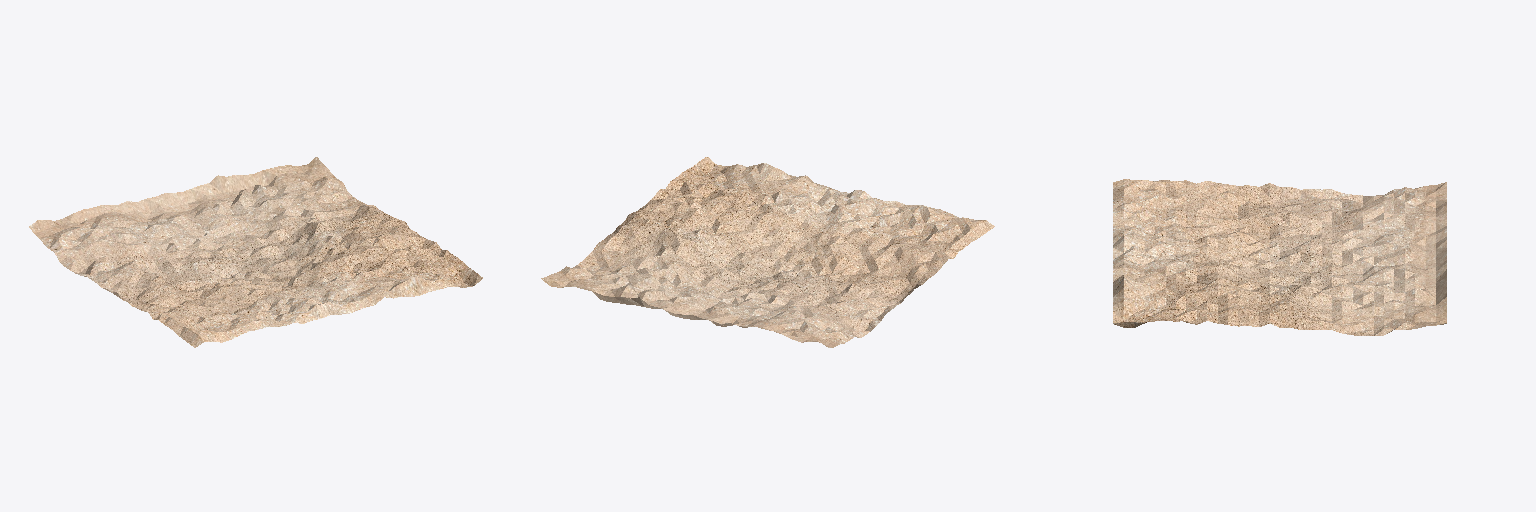
3 views of the same model, side by side, from view 1: azimuth 30°, elevation 25°; view 2: azimuth 150°, elevation 25°; view 3: azimuth 270°, elevation 25° (orthographic).
Visible parts, largest first — view 1: Plane; view 2: Plane; view 3: Plane.
Boxes of the visible parts, x1=… form: Plane: x1=29, y1=157, x2=482, y2=347; Plane: x1=541, y1=157, x2=994, y2=347; Plane: x1=1113, y1=179, x2=1446, y2=335.
Bounding box in the file's own units: 4.99 × 0.5516 × 4.99.
Materials: 1 (1 with a texture image).